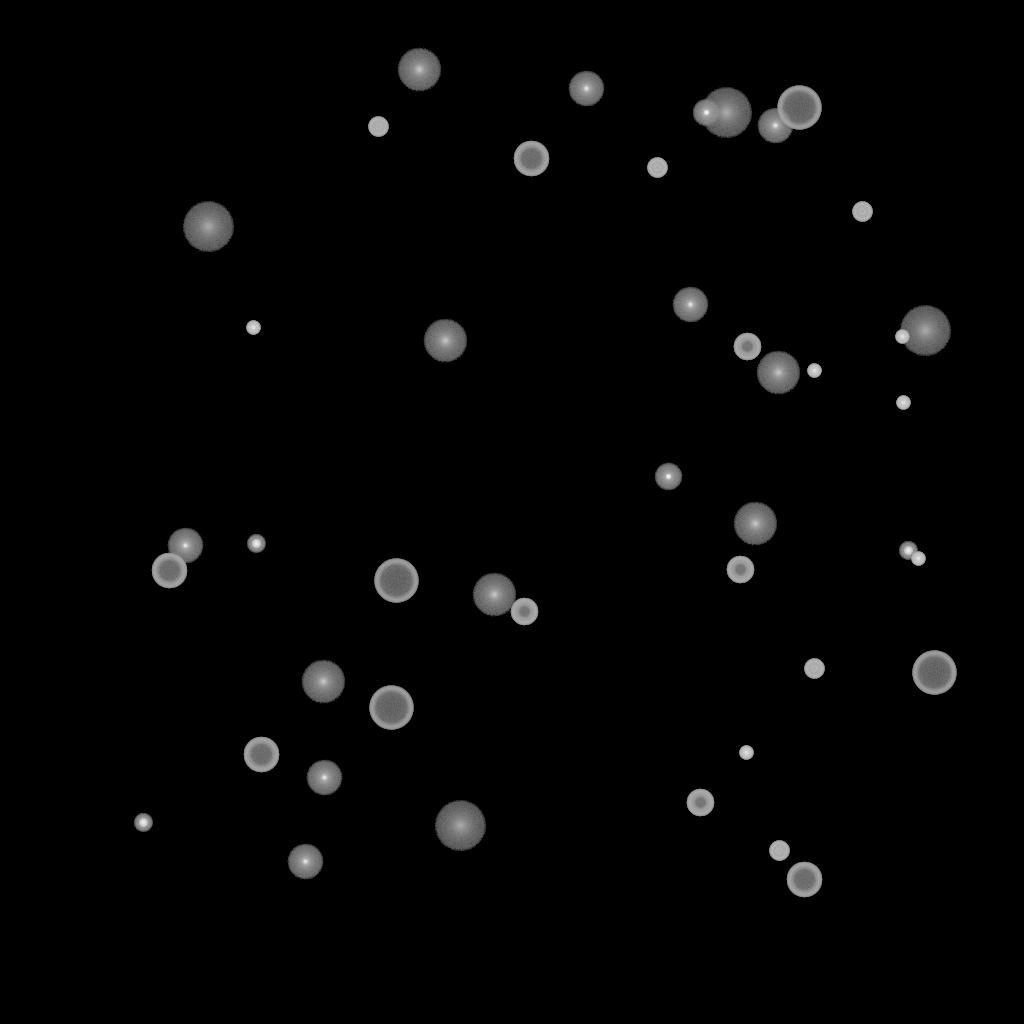depth:-10: (654, 463, 682, 491), (692, 99, 720, 127)
depth:-20: (134, 814, 152, 832), (247, 535, 265, 553), (899, 542, 917, 560)
depth:-30: (911, 552, 925, 566), (246, 321, 260, 335), (896, 396, 910, 410), (895, 330, 909, 344), (807, 364, 821, 378), (739, 746, 753, 760)
depth:-40: (852, 202, 872, 222), (769, 841, 789, 861), (647, 158, 667, 178), (804, 659, 824, 679), (368, 117, 388, 137)
depth:-50: (733, 333, 761, 361), (726, 556, 754, 584), (510, 598, 538, 626), (686, 789, 714, 817)
depth:-60: (243, 737, 279, 773), (151, 553, 187, 589), (513, 141, 549, 177), (786, 862, 822, 898)
depth:-70: (777, 86, 821, 130), (374, 559, 418, 603), (912, 651, 956, 695), (369, 686, 413, 730)
depth:0: (306, 760, 342, 796), (287, 844, 323, 880), (167, 528, 203, 564), (568, 71, 604, 107), (672, 287, 708, 323), (757, 108, 793, 144)
depth:10: (472, 573, 516, 617), (756, 351, 800, 395), (301, 660, 345, 704), (397, 48, 441, 92), (733, 502, 777, 546), (423, 319, 467, 363)
depth:20: (700, 88, 752, 138), (182, 202, 234, 252), (434, 801, 486, 851), (899, 306, 951, 356)
